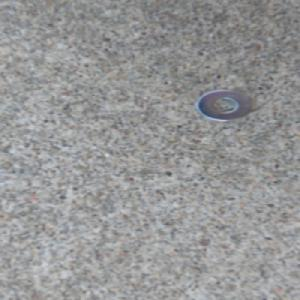Washer: (192, 87, 254, 122)
